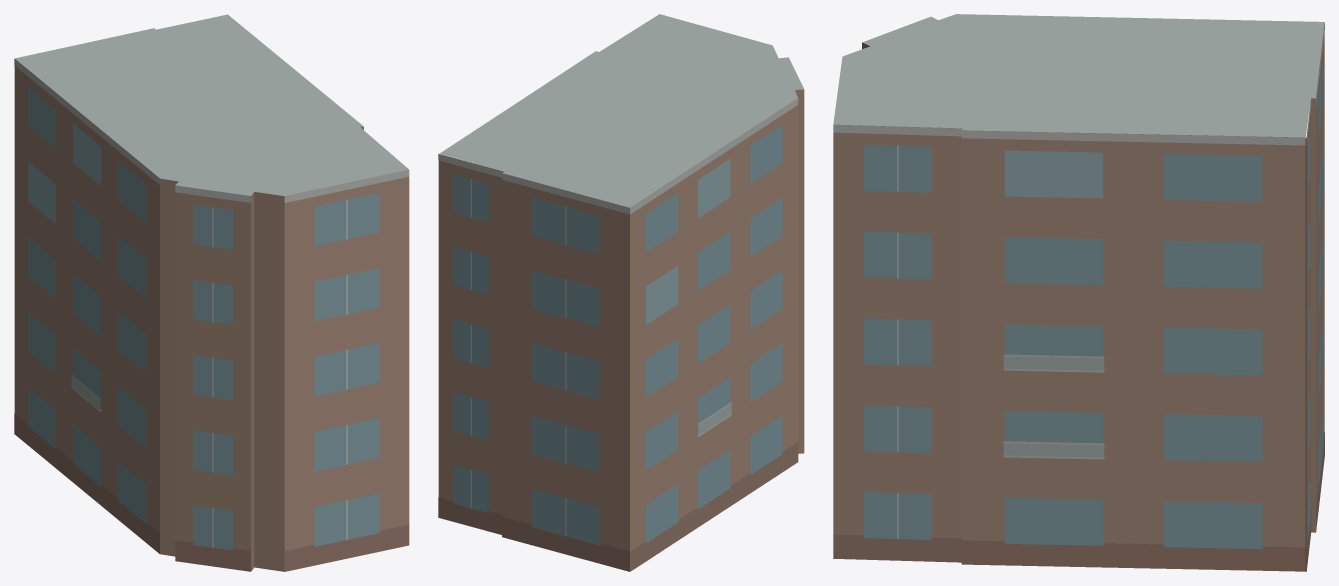
File: survey-upis-32772436.glb
3 renders of one model, left to right at view 1: azimuth 30°, elevation 25°; view 2: azimuth 150°, elevation 25°; view 3: azimuth 270°, elevation 25°, orthographic. The views are drawn at different scales.
Visible parts, largest first — view 1: survey-upis-32772436.tmp; view 2: survey-upis-32772436.tmp; view 3: survey-upis-32772436.tmp.
Boxes of the visible parts, bbox=[...] form: survey-upis-32772436.tmp: bbox=[14, 14, 409, 571]; survey-upis-32772436.tmp: bbox=[438, 14, 804, 571]; survey-upis-32772436.tmp: bbox=[833, 14, 1324, 571].
Bounding box in the file's own units: 8.08 × 13.2 × 13.55.
